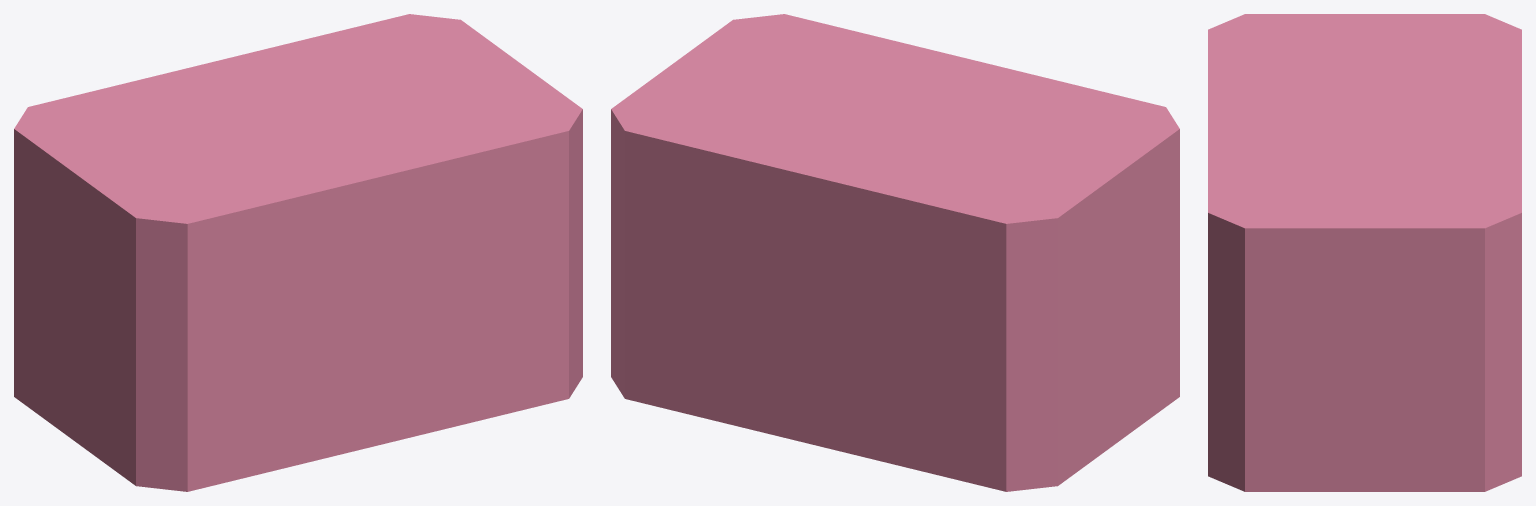
Rendered from Pedra03.fbx.
3 views of the same model, side by side, from view 1: azimuth 30°, elevation 25°; view 2: azimuth 150°, elevation 25°; view 3: azimuth 270°, elevation 25° (orthographic).
Parts seen in each view (by area): view 1: Cube.132; view 2: Cube.132; view 3: Cube.132.
Boxes of the visible parts, box(x1,y1,x2,y2) form: Cube.132: box(14, 14, 582, 491); Cube.132: box(611, 14, 1179, 491); Cube.132: box(1208, 14, 1521, 491).
Size of the model in its own units: 200 by 115 by 124.
